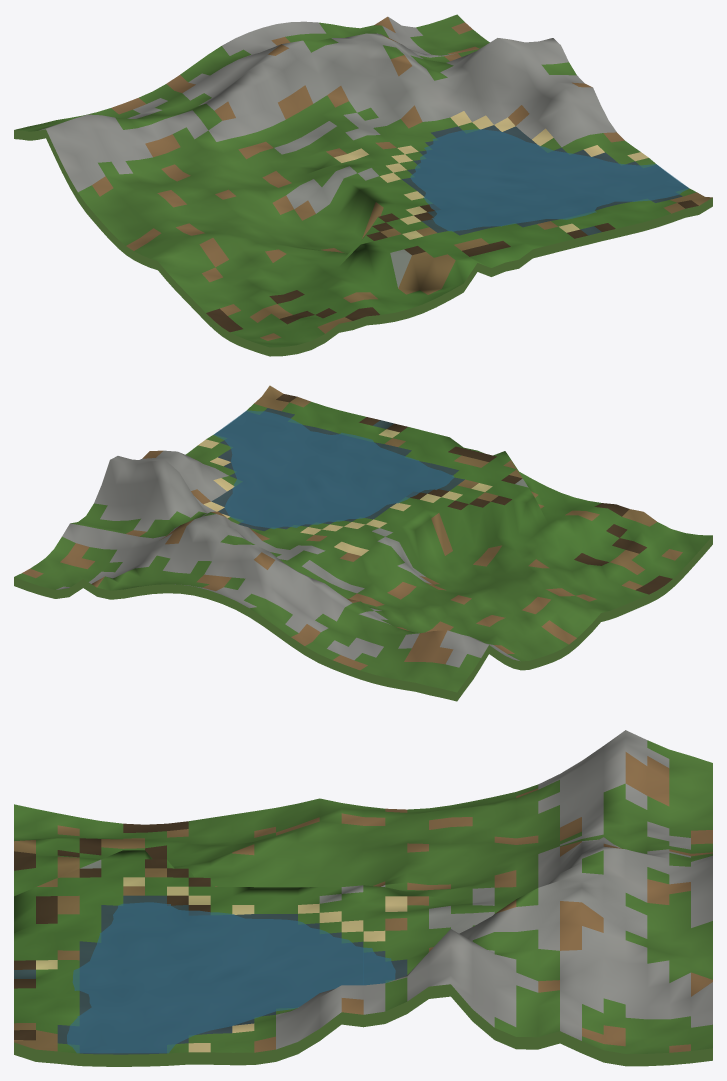
The model's file is chunk_2_1_lod1.glb.
3 renders of one model, top to bottom at view 1: azimuth 30°, elevation 25°; view 2: azimuth 150°, elevation 25°; view 3: azimuth 270°, elevation 25°, orthographic. The views are drawn at different scales.
Parts seen in each view (by area): view 1: Surface_Grass, Surface_Gravel, Surface_Water, Water, Surface_Dirt, Skirt, Surface_Mud, Surface_Sand; view 2: Surface_Grass, Surface_Gravel, Surface_Water, Water, Surface_Dirt, Skirt, Surface_Mud, Surface_Sand; view 3: Surface_Grass, Surface_Gravel, Surface_Water, Water, Surface_Dirt, Skirt, Surface_Mud, Surface_Sand.
Boxes of the visible parts, left/top/right/bottom form: Surface_Grass: left=15, top=14, right=696, bottom=347; Surface_Gravel: left=39, top=17, right=616, bottom=288; Surface_Water: left=402, top=125, right=687, bottom=235; Water: left=410, top=129, right=689, bottom=231; Surface_Dirt: left=92, top=16, right=712, bottom=340; Skirt: left=14, top=129, right=712, bottom=356; Surface_Mud: left=206, top=200, right=698, bottom=332; Surface_Sand: left=334, top=111, right=648, bottom=239; Surface_Grass: left=14, top=402, right=712, bottom=692; Surface_Gravel: left=56, top=450, right=528, bottom=667; Surface_Water: left=211, top=408, right=464, bottom=531; Water: left=213, top=410, right=454, bottom=528; Surface_Dirt: left=22, top=385, right=682, bottom=670; Skirt: left=14, top=536, right=712, bottom=701; Surface_Mud: left=276, top=394, right=672, bottom=594; Surface_Sand: left=198, top=429, right=492, bottom=555; Surface_Grass: left=14, top=740, right=712, bottom=1053; Surface_Gravel: left=80, top=730, right=712, bottom=1049; Surface_Water: left=14, top=895, right=407, bottom=1054; Water: left=67, top=902, right=395, bottom=1053; Surface_Dirt: left=14, top=752, right=712, bottom=1052; Skirt: left=14, top=984, right=712, bottom=1066; Surface_Mud: left=14, top=821, right=210, bottom=1040; Surface_Sand: left=36, top=877, right=407, bottom=1052.
Bounding box in the file's own units: 256 × 67.36 × 256.
